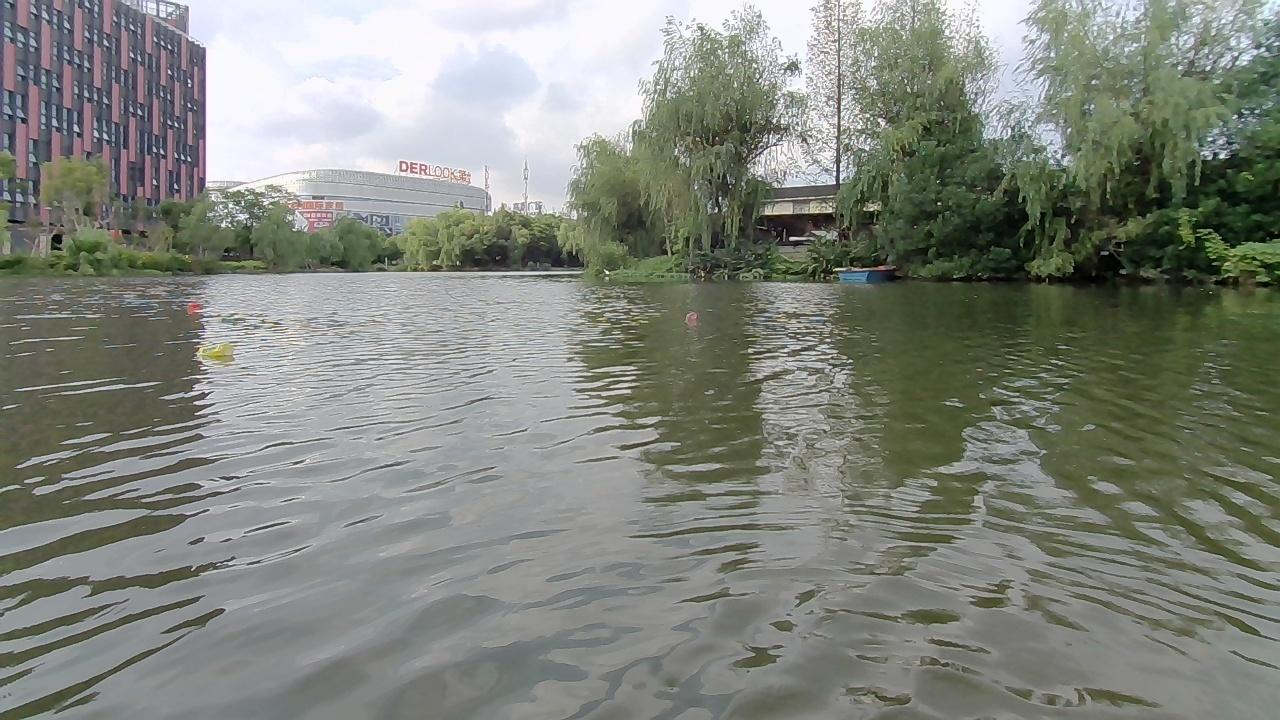bottle: (196, 337, 233, 361), (183, 298, 203, 314), (684, 310, 695, 326)
